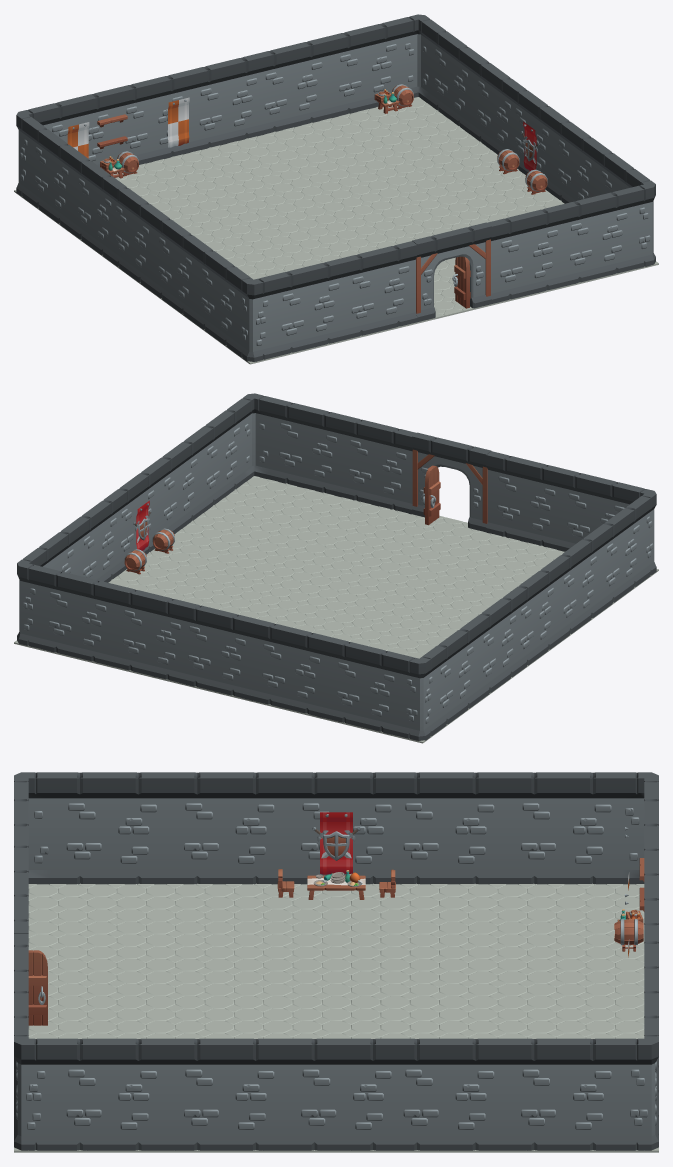
The model's file is DungeonRoom_Kruskal_and_Prim.glb.
The picture shows the model from 3 angles, top to bottom: view 1: azimuth 30°, elevation 25°; view 2: azimuth 150°, elevation 25°; view 3: azimuth 270°, elevation 25°; orthographic projection. The views are drawn at different scales.
Visible parts, largest first — view 1: wall.004, wall.005, wall.009, wall.008, wall.007, wall.006, wall.001, wall.003, wall_doorway_scaffold, wall.014, wall.015, wall.018 (+78 smaller); view 2: wall.003, wall.001, wall.002, wall.006, wall.004, wall.009, wall.005, wall.007, wall_doorway_scaffold, wall.015, wall.014, wall.018 (+73 smaller); view 3: wall.013, wall.031, wall.010, wall.011, wall.014, wall.015, wall.018, wall.016, wall.012, wall.017, wall_corner.001, wall_corner.003 (+93 smaller).
Part boxes in pixels (left/top/right/bottom): wall.004: left=251, top=37, right=330, bottom=136; wall.005: left=186, top=53, right=265, bottom=152; wall.009: left=338, top=241, right=417, bottom=339; wall.008: left=268, top=258, right=347, bottom=357; wall.007: left=487, top=205, right=565, bottom=303; wall.006: left=559, top=188, right=635, bottom=285; wall.001: left=325, top=19, right=404, bottom=118; wall.003: left=111, top=71, right=190, bottom=164; wall_doorway_scaffold: left=412, top=222, right=491, bottom=322; wall.014: left=193, top=242, right=245, bottom=353; wall.015: left=27, top=120, right=78, bottom=231; wall.018: left=150, top=211, right=202, bottom=321; wall.003: left=251, top=619, right=330, bottom=718; wall.001: left=37, top=567, right=116, bottom=666; wall.002: left=325, top=637, right=404, bottom=736; wall.006: left=268, top=398, right=346, bottom=496; wall.004: left=112, top=585, right=191, bottom=683; wall.009: left=486, top=451, right=561, bottom=549; wall.005: left=177, top=603, right=255, bottom=700; wall.007: left=337, top=415, right=416, bottom=514; wall_doorway_scaffold: left=412, top=432, right=491, bottom=532; wall.015: left=427, top=621, right=479, bottom=732; wall.014: left=594, top=499, right=645, bottom=610; wall.018: left=551, top=531, right=602, bottom=642; wall.013: left=168, top=1038, right=285, bottom=1150; wall.031: left=50, top=1038, right=167, bottom=1150; wall.010: left=505, top=1038, right=622, bottom=1150; wall.011: left=387, top=1038, right=504, bottom=1150; wall.014: left=50, top=772, right=167, bottom=884; wall.015: left=505, top=772, right=622, bottom=884; wall.018: left=168, top=772, right=285, bottom=884; wall.016: left=387, top=772, right=504, bottom=884; wall.012: left=285, top=1038, right=402, bottom=1150; wall.017: left=285, top=772, right=402, bottom=884; wall_corner.001: left=622, top=1029, right=658, bottom=1150; wall_corner.003: left=14, top=1029, right=50, bottom=1150.
Bounding box in the file's own units: 44.03 × 8.15 × 44.
11 materials, 10 textured.
